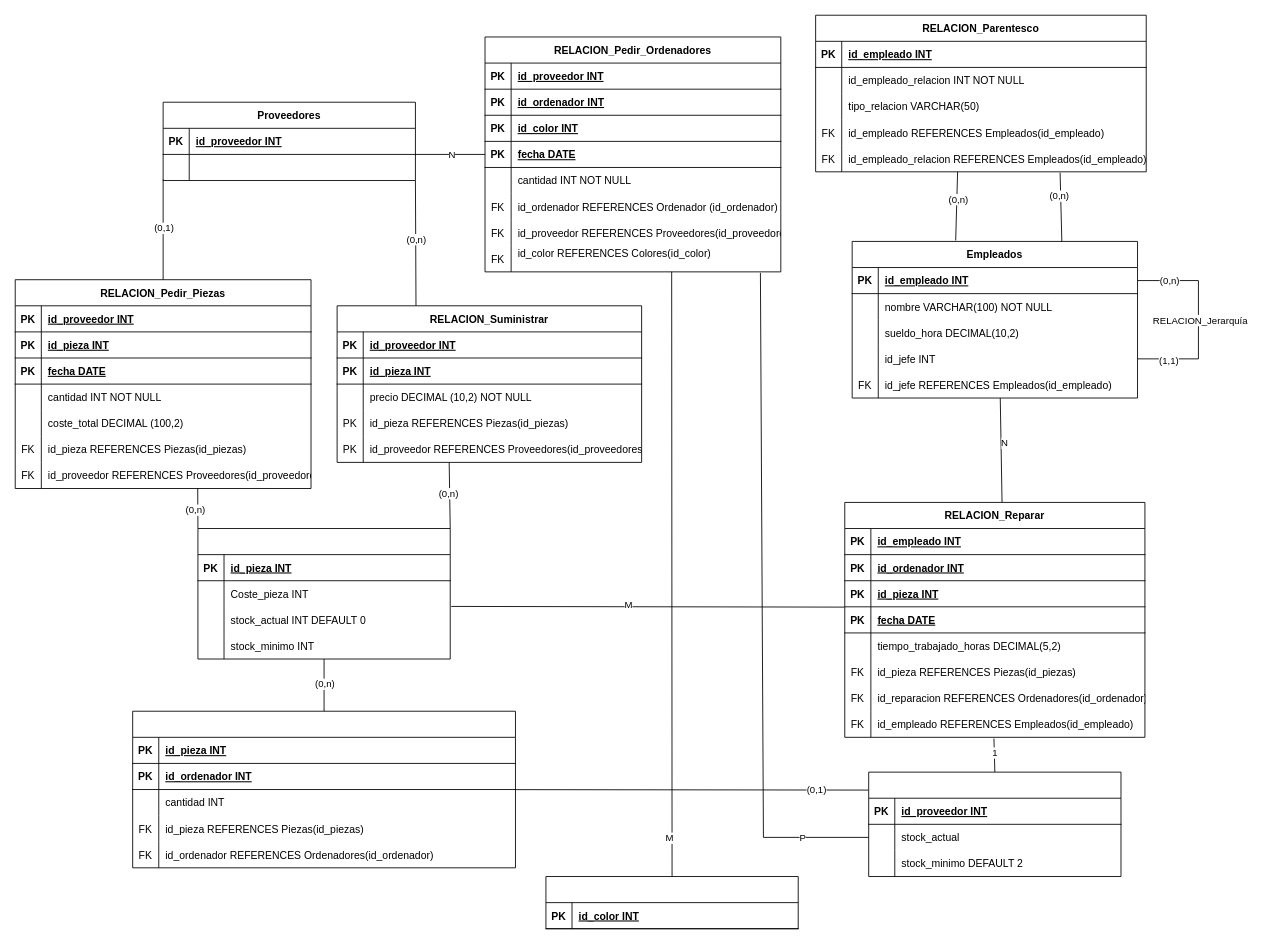
Image size: 1262x944. Some labels were removed from this diagram. The shapes that lost their labels are listed below. From the top down, each one's box as (x1, y1, x2, y2) in pixels, then its label:
(197, 528, 450, 659): Piezas
(132, 710, 515, 868): RELACION_Contener
(868, 771, 1121, 877): Ordenadores
(545, 876, 798, 929): Colores
